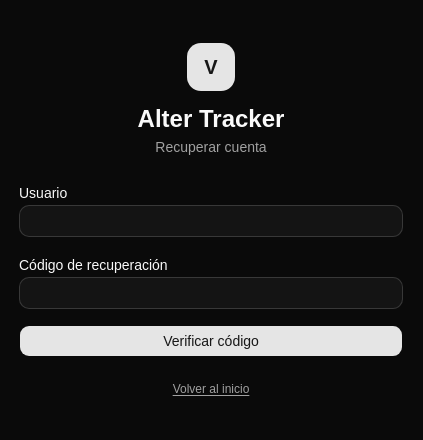
ForgotPasswordPage › shows the API error message on failure (FastAPI detail string)
In the field labelled "Usuario": (211, 221) 19,205 -> 403,237, type "alice"
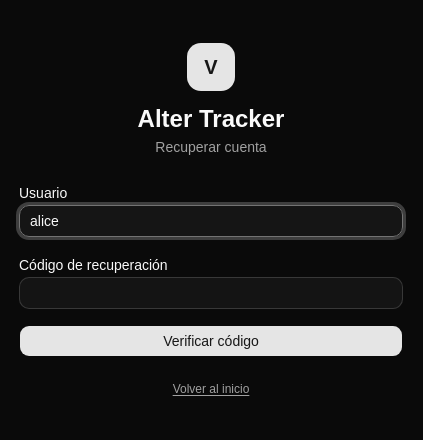
In the field labelled "Código de recuperación": (211, 293) 19,277 -> 403,309, type "000000"
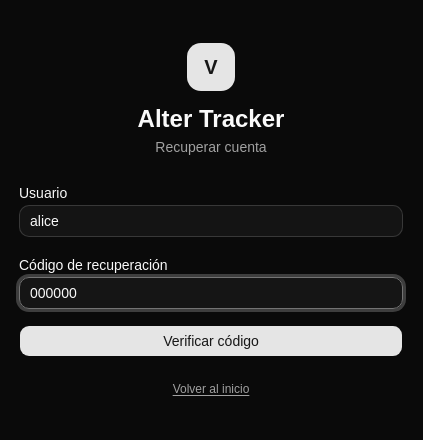
Click the button "Verificar código": click(211, 341) 19,325 -> 403,357
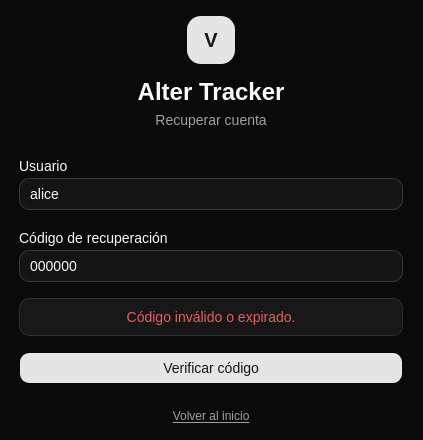
Expected: the text "Código inválido o expirado." is shown, 126,309 -> 295,325
